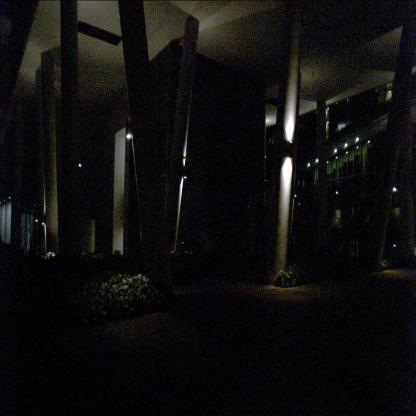human-pedestrian-adult: (292, 226, 302, 269)
